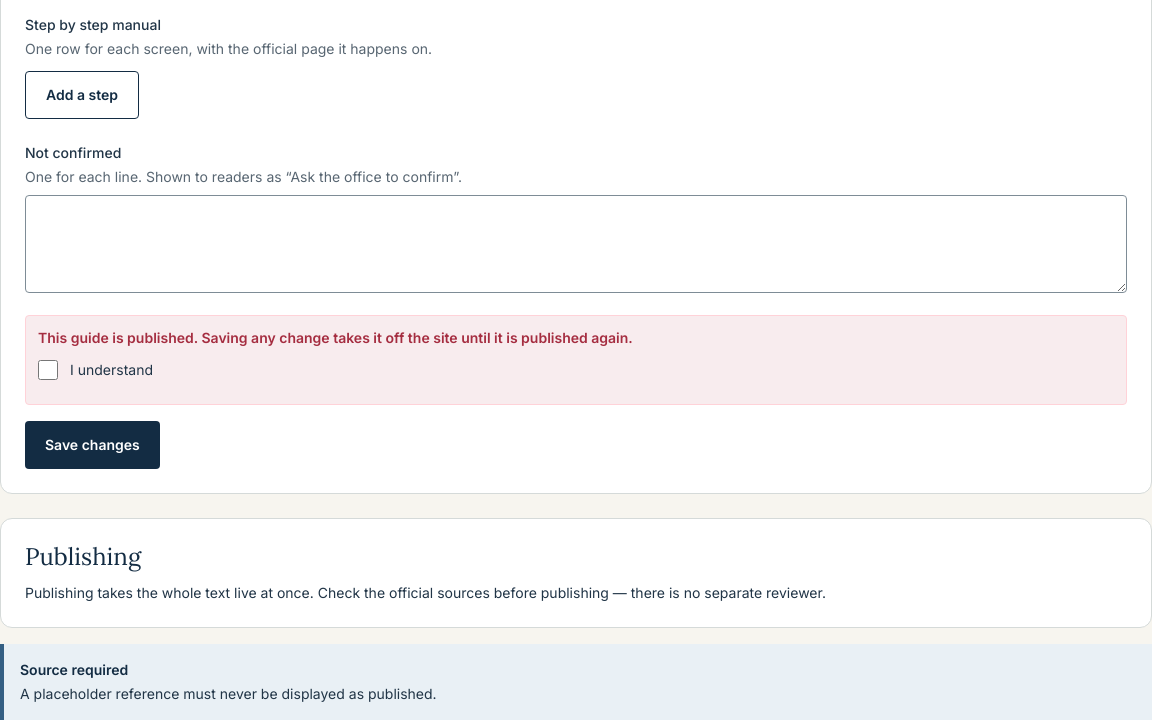
The integrity rule on a published guide › sends no request at all until the admin says they understand
(page scrolled)
Click the button "Save changes": {"x": 92, "y": 445} [25,421,160,469]
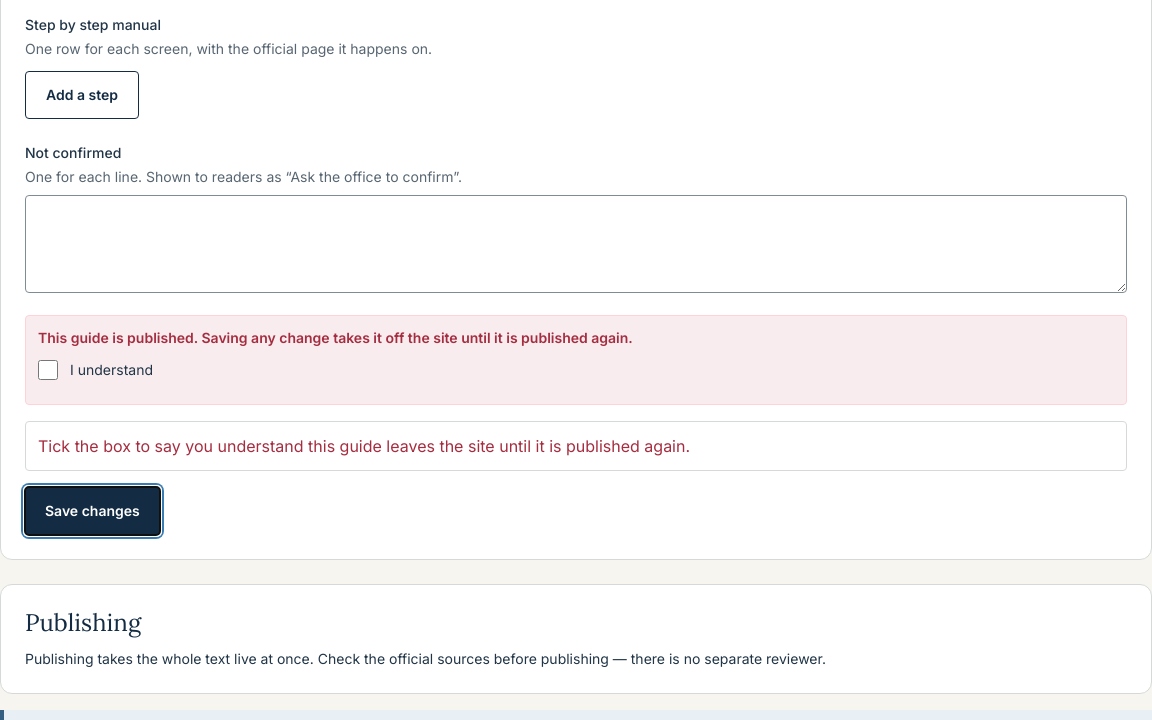
Expected: the message shows "Tick the box", [38,436,690,456]
